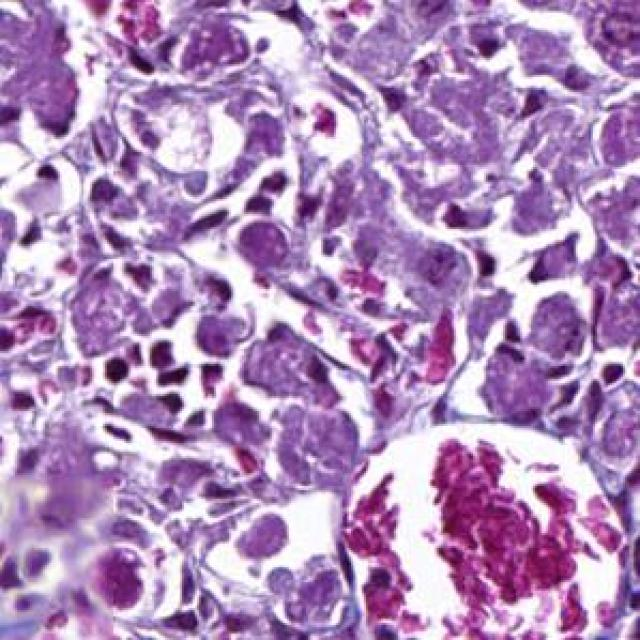ballooning: (338, 413, 629, 634)
